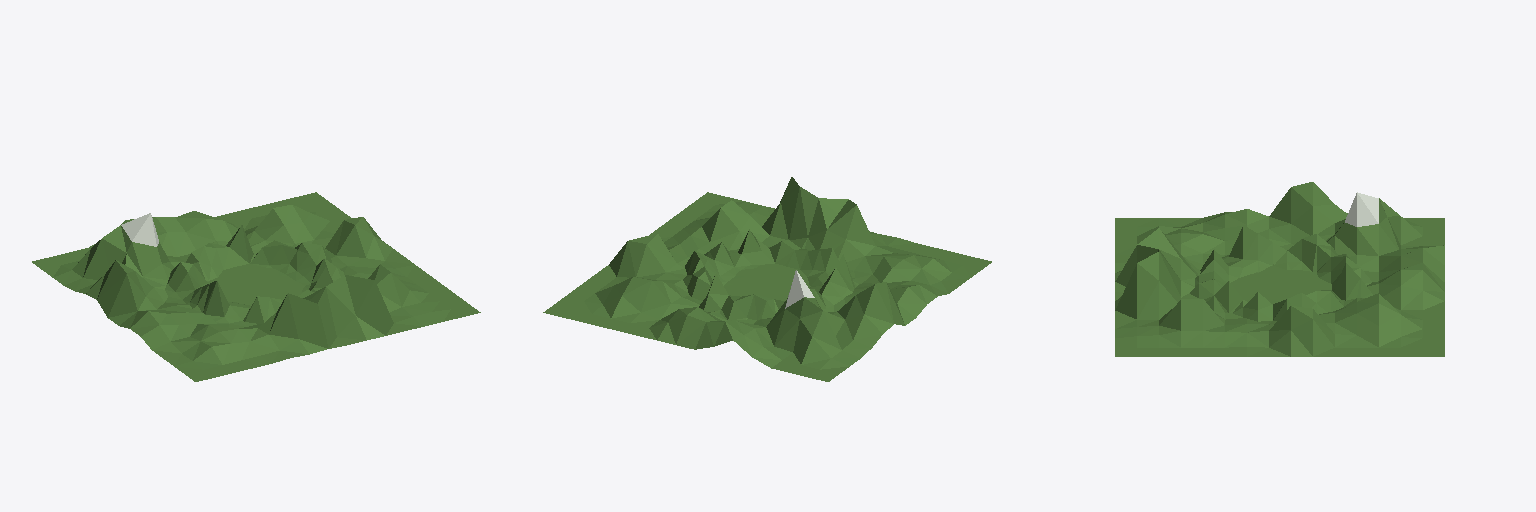
Rendered from TribeTerrain.obj.
The picture shows the model from 3 angles: view 1: azimuth 30°, elevation 25°; view 2: azimuth 150°, elevation 25°; view 3: azimuth 270°, elevation 25°; orthographic projection.
Visible parts, largest first — view 1: object_2, object_1; view 2: object_2; view 3: object_2, object_1.
Boxes of the visible parts, x1=… form: object_2: x1=32, y1=192, x2=480, y2=381; object_1: x1=121, y1=213, x2=158, y2=246; object_2: x1=543, y1=177, x2=991, y2=381; object_2: x1=1115, y1=182, x2=1444, y2=356; object_1: x1=1345, y1=192, x2=1378, y2=226.
Bounding box in the file's own units: 30 × 6.28 × 30.